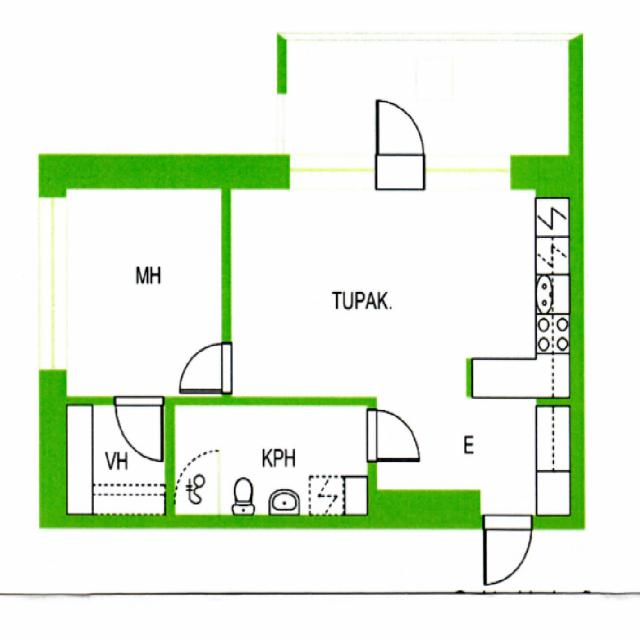door: (375, 97, 425, 188), (484, 514, 532, 584), (114, 395, 162, 459), (369, 410, 420, 460), (180, 342, 232, 391)
